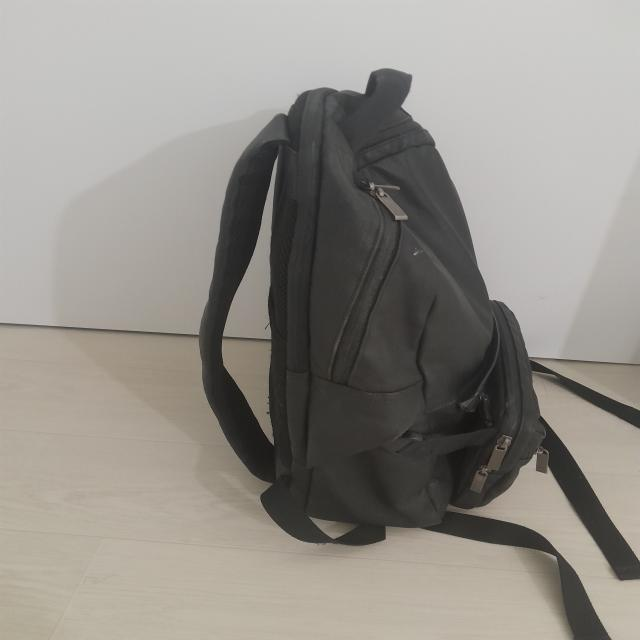backpack: (196, 66, 639, 640)
